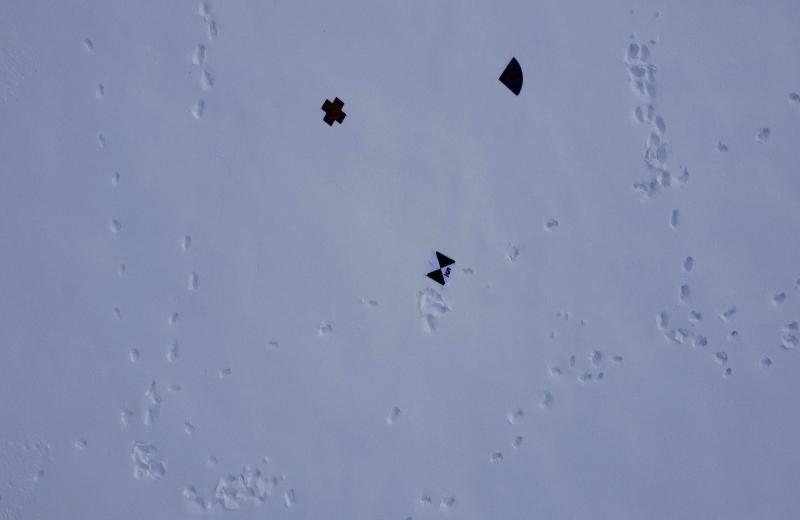Cross: (318, 96, 349, 128)
Quarter Circle: (498, 55, 526, 98)
